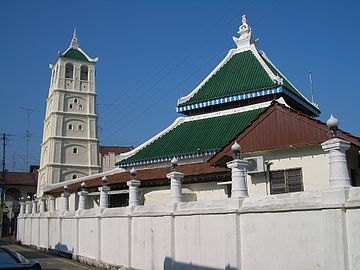Mosque: (29, 22, 322, 210)
